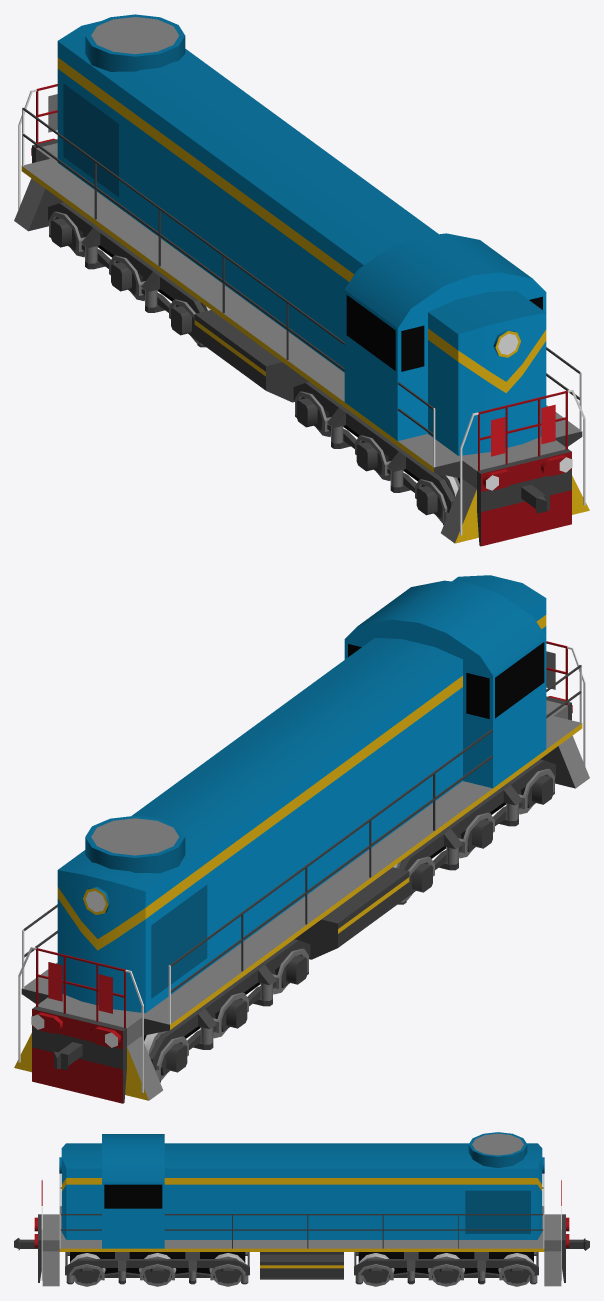
Rendered from TEM2_A.glb.
3 views of the same model, one above another, from view 1: azimuth 30°, elevation 25°; view 2: azimuth 150°, elevation 25°; view 3: azimuth 270°, elevation 25° (orthographic). The views are drawn at different scales.
Visible parts, largest first — view 1: TEM2_A; view 2: TEM2_A; view 3: TEM2_A.
Part boxes in pixels (x1,y1,x2,y2): TEM2_A: (14,14,589,546); TEM2_A: (14,575,589,1103); TEM2_A: (14,1132,589,1286).
Size of the model in its own units: 3 by 4.46 by 17.14.
1 material, 1 textured.
